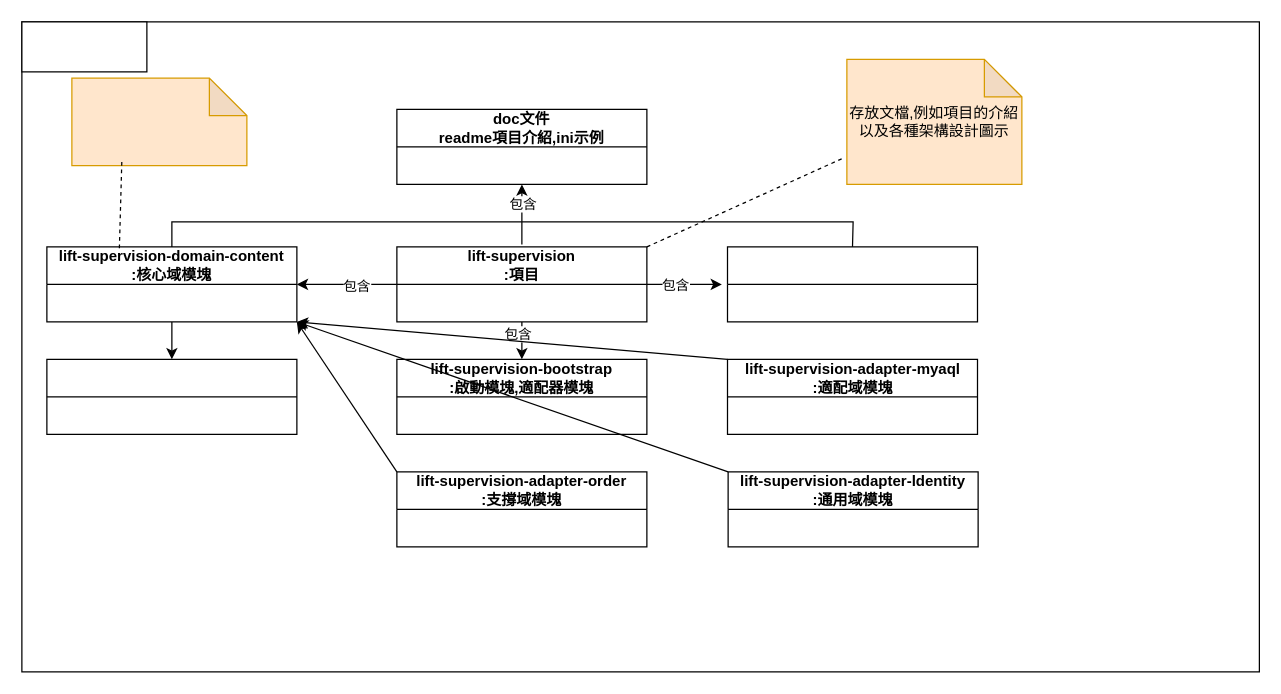
This 1281x694 diagram has some shape labels left out. The box of each missing label's shape, as (x1, y1, x2, y2) in pixels:
lift-supervision-schedulex :適配域模塊: (46, 358, 297, 434)
lift-supervision-web :適配域模塊: (726, 246, 978, 322)
依賴所有適配器模塊: (71, 77, 247, 166)
電梯監管: (21, 21, 147, 72)
